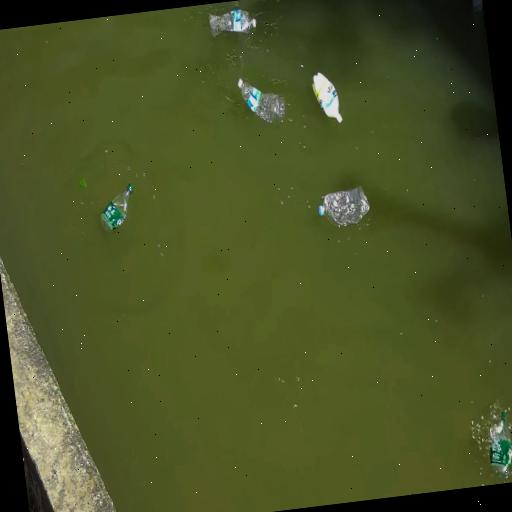plastic: (237, 79, 284, 123), (318, 187, 368, 227), (100, 184, 132, 232), (311, 73, 341, 123), (489, 411, 511, 473), (208, 10, 255, 37)
